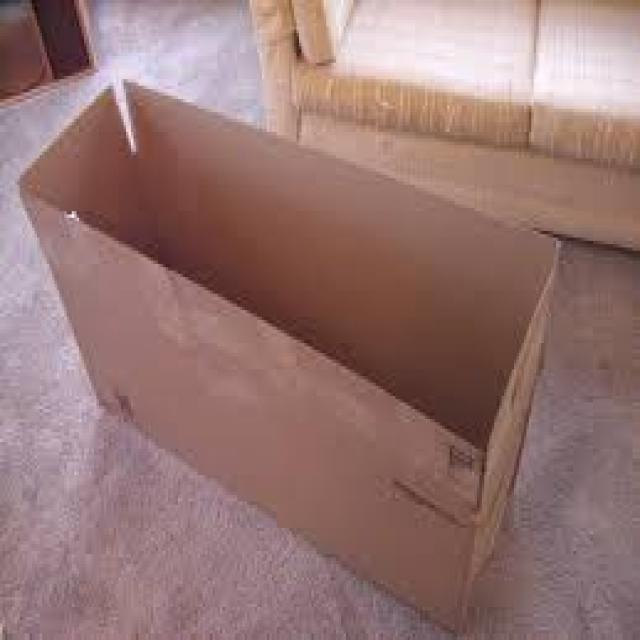Cardboard: (15, 72, 560, 623)
